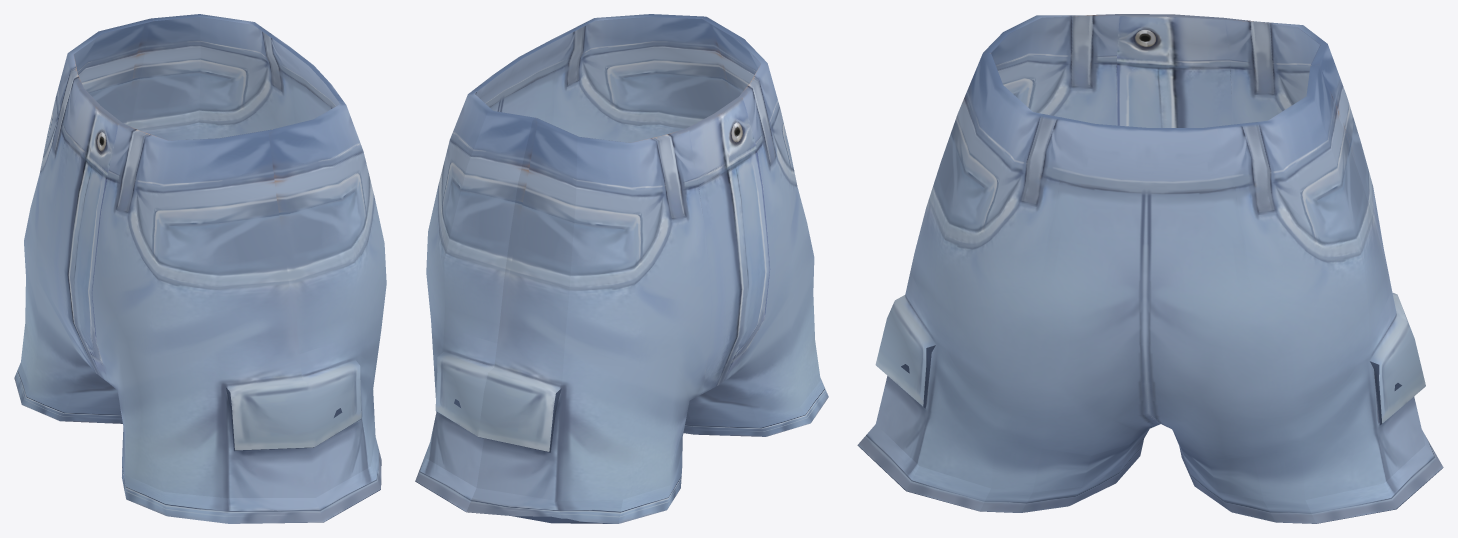
The model's file is pants_denimshorts.gltf.
3 views of the same model, side by side, from view 1: azimuth 30°, elevation 25°; view 2: azimuth 150°, elevation 25°; view 3: azimuth 270°, elevation 25° (orthographic). The views are drawn at different scales.
Visible parts, largest first — view 1: DenimShorts; view 2: DenimShorts; view 3: DenimShorts.
Part boxes in pixels (x1,y1,x2,y2): DenimShorts: (14,14,386,523); DenimShorts: (415,14,828,523); DenimShorts: (857,14,1443,523).
Bounding box in the file's own units: 0.2687 × 0.3352 × 0.4428.
1 material, 1 textured.
